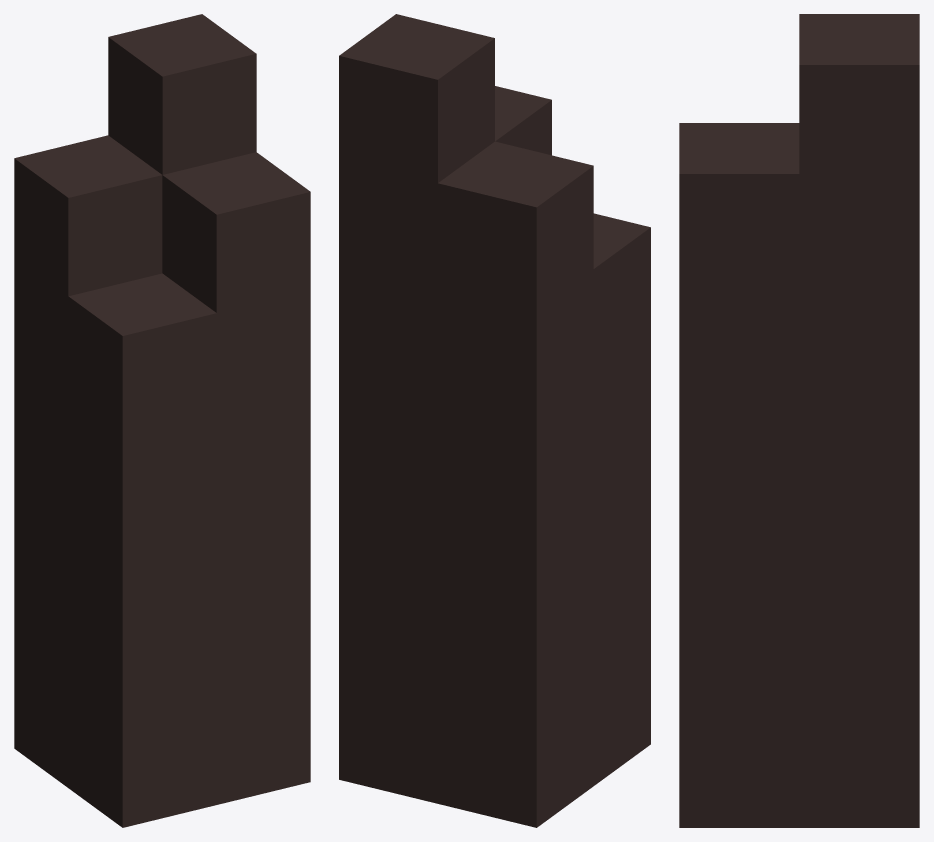
The model's file is fox__leg_bl.glb.
3 views of the same model, side by side, from view 1: azimuth 30°, elevation 25°; view 2: azimuth 150°, elevation 25°; view 3: azimuth 270°, elevation 25° (orthographic). The views are drawn at different scales.
Parts seen in each view (by area): view 1: fox__leg_bl; view 2: fox__leg_bl; view 3: fox__leg_bl.
Part boxes in pixels (x1=…): fox__leg_bl: x1=14, y1=14, x2=310, y2=827; fox__leg_bl: x1=339, y1=14, x2=650, y2=827; fox__leg_bl: x1=679, y1=14, x2=919, y2=827.
Size of the model in its own units: 0.2 by 0.7 by 0.2.
1 material, 1 textured.
